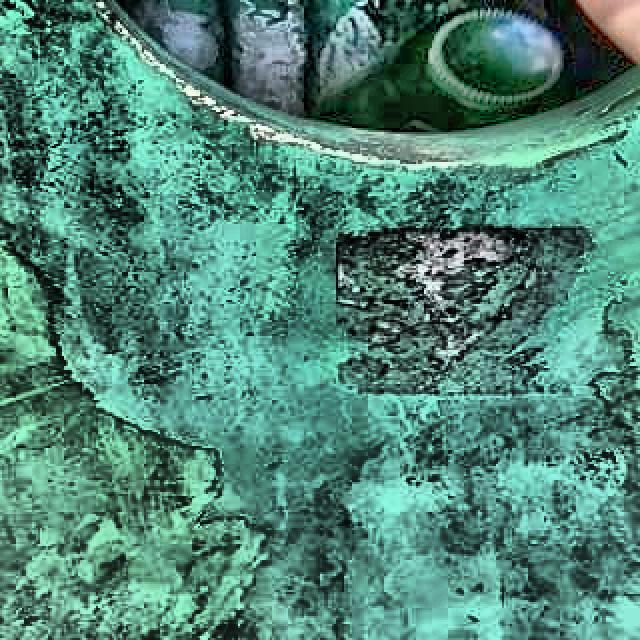glass: (312, 9, 565, 131)
